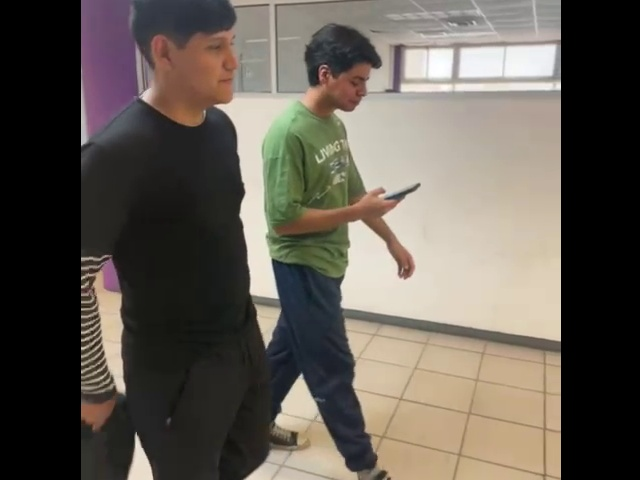mixto2: (380, 177, 426, 203)
